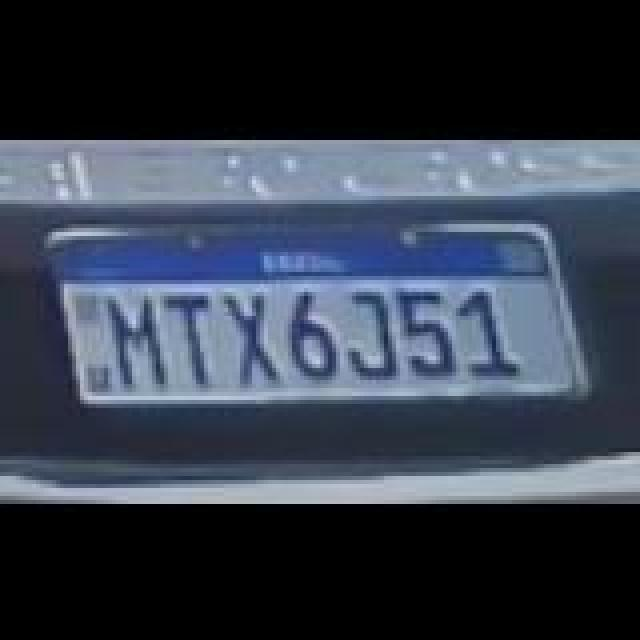1: (458, 288, 526, 376)
5: (396, 286, 460, 378)
6: (286, 286, 346, 378)
J: (342, 286, 402, 378)
M: (104, 290, 176, 390)
T: (162, 288, 230, 384)
X: (218, 286, 286, 386)
